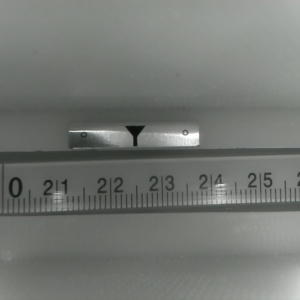0: (7, 176, 23, 197)
1: (60, 179, 67, 195)
2: (42, 179, 53, 195), (148, 175, 158, 191), (96, 177, 106, 193), (113, 177, 123, 193), (197, 174, 207, 189), (246, 173, 256, 187), (296, 171, 300, 188)
3: (164, 175, 173, 191)
4: (213, 174, 223, 188)
5: (263, 172, 272, 188)
finger: (122, 126, 145, 147)
